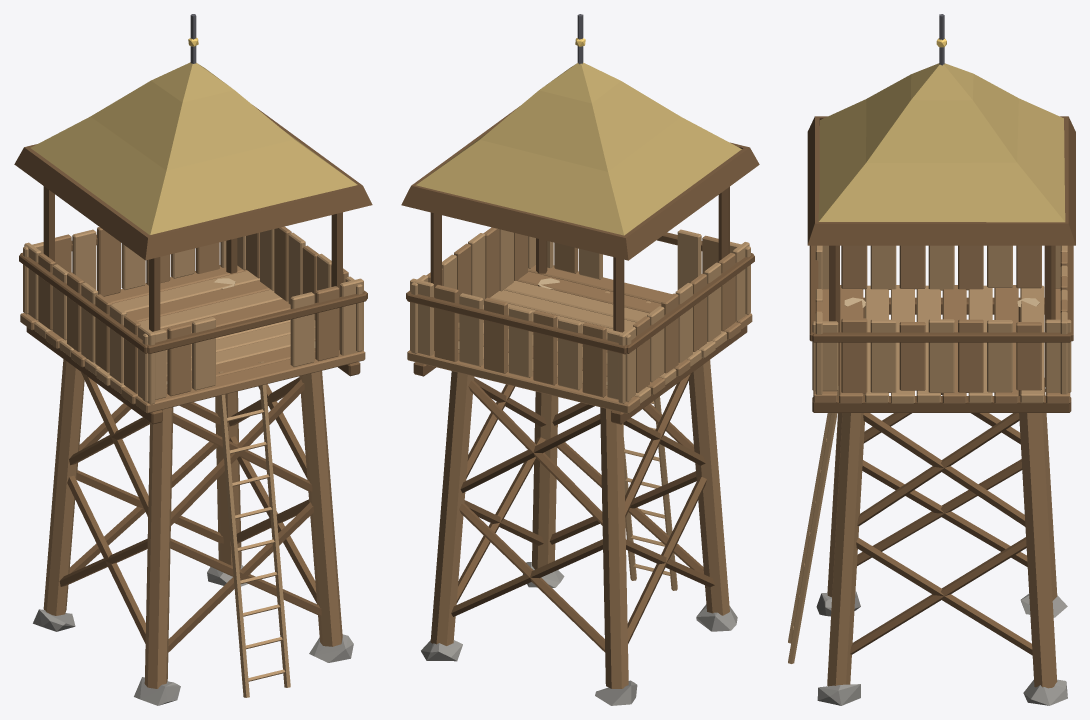
Rendered from archer_tower_1.glb.
3 views of the same model, side by side, from view 1: azimuth 30°, elevation 25°; view 2: azimuth 150°, elevation 25°; view 3: azimuth 270°, elevation 25° (orthographic). The views are drawn at different scales.
Visible parts, largest first — view 1: ArcherTower; view 2: ArcherTower; view 3: ArcherTower.
Part boxes in pixels (left/top/right/bottom): ArcherTower: left=14, top=14, right=372, bottom=705; ArcherTower: left=401, top=14, right=759, bottom=705; ArcherTower: left=788, top=14, right=1075, bottom=705.
Size of the model in its own units: 3.11 by 8.16 by 3.34.
